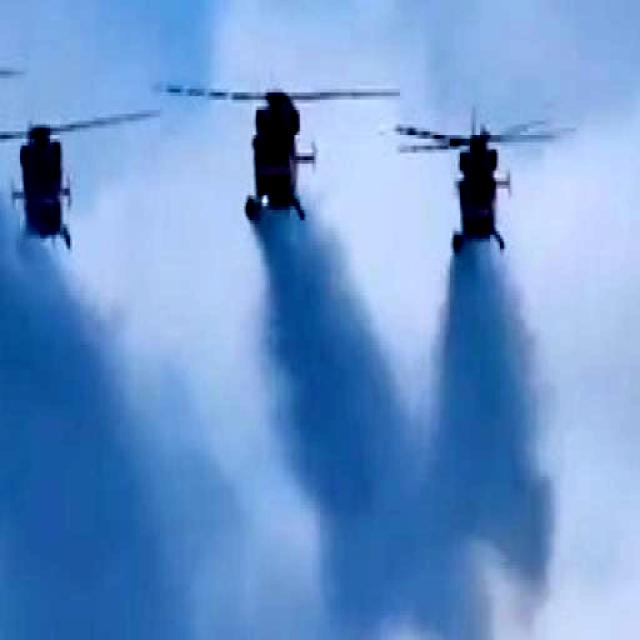drone: (176, 54, 390, 230), (395, 98, 572, 282), (0, 95, 166, 252)
